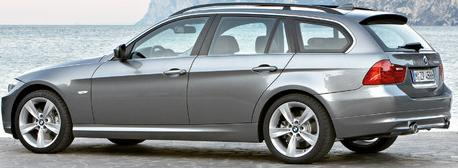back_view: (343, 50, 454, 143)
backlight: (358, 55, 410, 89)
side_glass: (104, 10, 359, 66)
